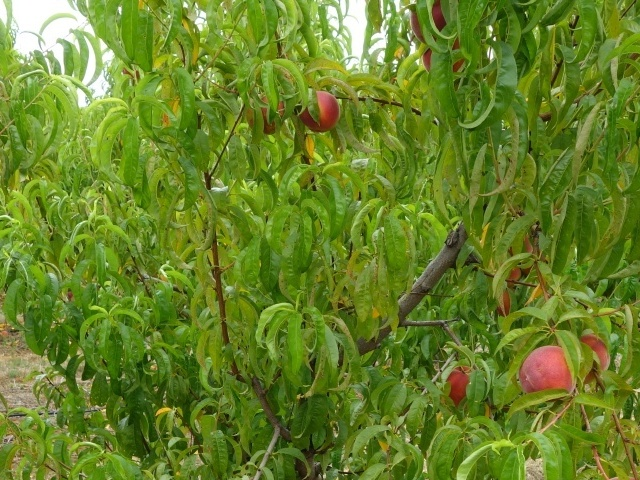peach: (517, 343, 580, 402), (418, 34, 473, 79), (295, 88, 344, 138), (572, 332, 615, 386), (404, 1, 463, 40), (244, 92, 291, 138), (444, 359, 483, 412), (490, 284, 518, 322), (497, 260, 525, 289)
